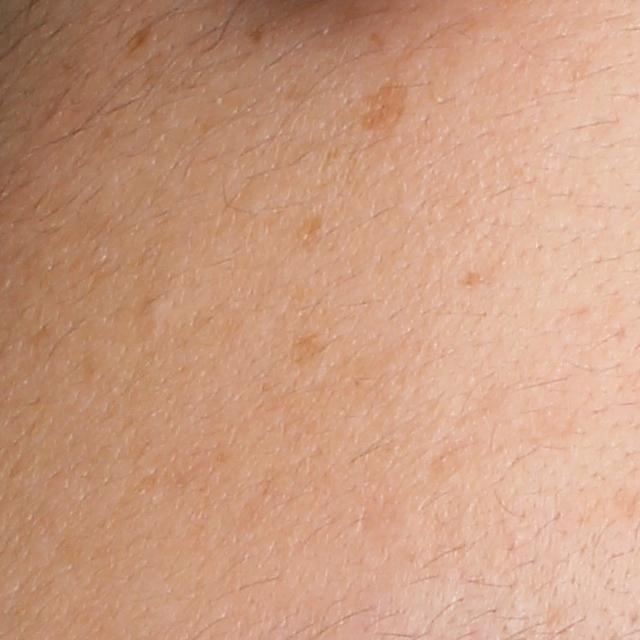comedo: (142, 290, 172, 325)
melasma: (350, 74, 413, 138), (293, 210, 334, 249), (123, 22, 161, 54)
